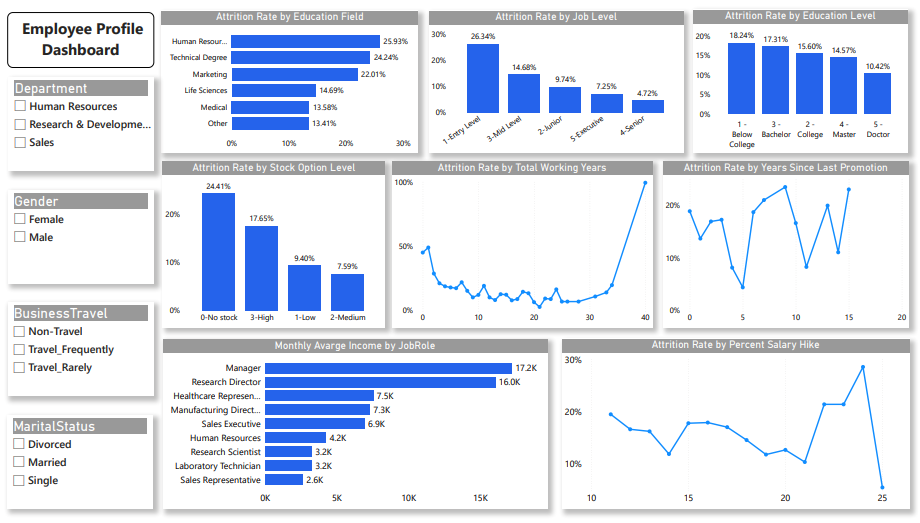

What the dashboard file says about the page in this screenshot:
{"tool":"powerbi","page":{"name":"Employee Profile Dashboard","canvas":[1920,1080],"ordinal":1},"visuals":[{"type":"clusteredBarChart","title":"Attrition Rate by Education Field","fields":{"Y":["HR-Employee-Attrition.Attrition Rate"],"Category":["HR-Employee-Attrition.EducationField"]},"box":[335,15,537.5,297.5],"z":0},{"type":"textbox","box":[11.7,18.3,308.3,116.7],"z":1000},{"type":"slicer","fields":{"Values":["HR-Employee-Attrition.Department"]},"box":[15,155,305,195],"z":2000},{"type":"slicer","fields":{"Values":["HR-Employee-Attrition.Gender"]},"box":[13.9,390.6,305,195],"z":3000},{"type":"slicer","fields":{"Values":["HR-Employee-Attrition.BusinessTravel"]},"box":[12.8,626.1,305,195],"z":4000},{"type":"slicer","fields":{"Values":["HR-Employee-Attrition.MaritalStatus"]},"box":[11.7,861.7,305,195],"z":5000},{"type":"clusteredColumnChart","title":"Attrition Rate by Job Level","fields":{"Y":["HR-Employee-Attrition.Attrition Rate"],"Category":["HR-Employee-Attrition.Job Level Label"]},"box":[895,15,532.5,297.5],"z":6000},{"type":"clusteredColumnChart","title":"Attrition Rate by Education Level","fields":{"Category":["HR-Employee-Attrition.Education Level Label"],"Y":["HR-Employee-Attrition.Attrition Rate"]},"box":[1447.5,12.5,450,300],"z":7000},{"type":"clusteredColumnChart","title":"Attrition Rate by Stock Option Level","fields":{"Y":["HR-Employee-Attrition.Attrition Rate"],"Category":["HR-Employee-Attrition.Stock Option Level Label"]},"box":[337.5,330,465,347.5],"z":8000},{"type":"lineChart","title":"Attrition Rate by Total Working Years","fields":{"Category":["HR-Employee-Attrition.TotalWorkingYears"],"Y":["HR-Employee-Attrition.Attrition Rate"]},"box":[817.5,330,545,347.5],"z":9000},{"type":"lineChart","title":"Attrition Rate by Years Since Last Promotion","fields":{"Y":["HR-Employee-Attrition.Attrition Rate"],"Category":["HR-Employee-Attrition.YearsSinceLastPromotion"]},"box":[1385,330,515,347.5],"z":10000},{"type":"clusteredBarChart","title":"Monthly Avarge Income by JobRole","fields":{"Category":["HR-Employee-Attrition.JobRole"],"Y":["HR-Employee-Attrition.Monthly Avarge Income"]},"box":[337.5,702.5,805,355],"z":11000},{"type":"lineChart","title":"Attrition Rate by Percent Salary Hike","fields":{"Category":["HR-Employee-Attrition.PercentSalaryHike"],"Y":["HR-Employee-Attrition.Attrition Rate"]},"box":[1174.4,702.4,726.6,355.6],"z":12000}]}

Visuals, with their boxes in screenshot pixels (x1, y1, x2, y2), scaled from the page's 1920x1080 canvas onto the 920x523 screenshot:
"Attrition Rate by Education Field" clusteredBarChart: detection(161, 7, 418, 151)
textbox: detection(6, 9, 153, 65)
slicer - HR-Employee-Attrition.Department: detection(7, 75, 153, 169)
slicer - HR-Employee-Attrition.Gender: detection(7, 189, 153, 284)
slicer - HR-Employee-Attrition.BusinessTravel: detection(6, 303, 152, 398)
slicer - HR-Employee-Attrition.MaritalStatus: detection(6, 417, 152, 512)
"Attrition Rate by Job Level" clusteredColumnChart: detection(429, 7, 684, 151)
"Attrition Rate by Education Level" clusteredColumnChart: detection(694, 6, 909, 151)
"Attrition Rate by Stock Option Level" clusteredColumnChart: detection(162, 160, 385, 328)
"Attrition Rate by Total Working Years" lineChart: detection(392, 160, 653, 328)
"Attrition Rate by Years Since Last Promotion" lineChart: detection(664, 160, 910, 328)
"Monthly Avarge Income by JobRole" clusteredBarChart: detection(162, 340, 547, 512)
"Attrition Rate by Percent Salary Hike" lineChart: detection(563, 340, 911, 512)
